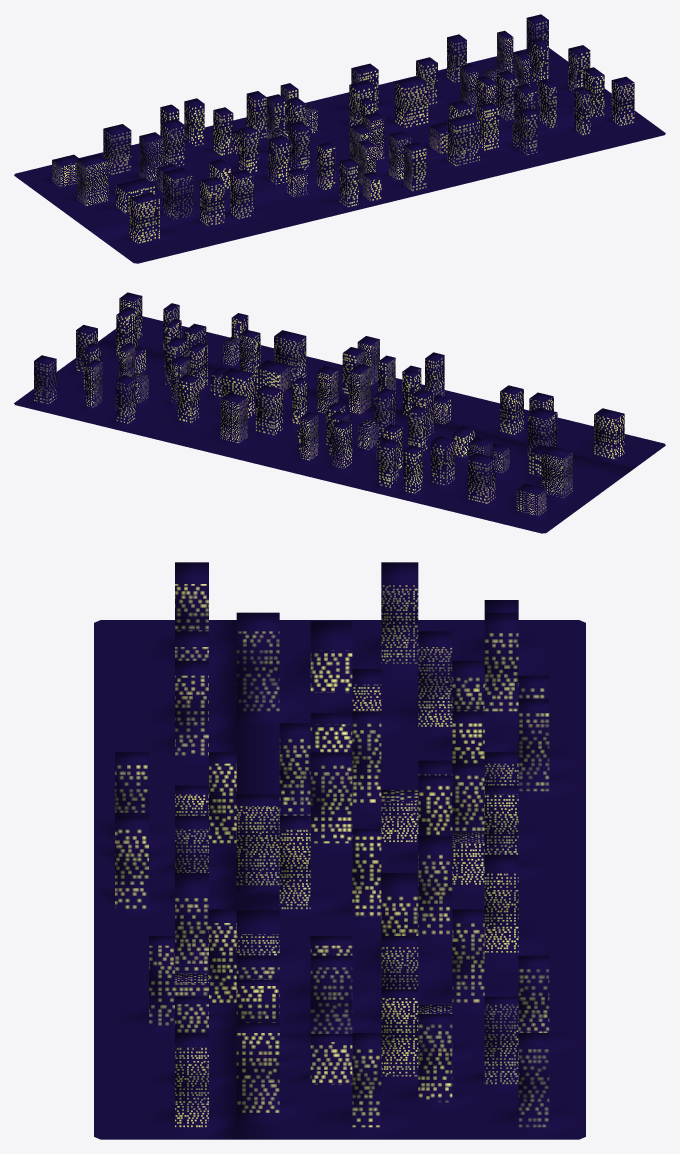
The model's file is SciFi_Base.fbx.
The picture shows the model from 3 angles, top to bottom: view 1: azimuth 30°, elevation 25°; view 2: azimuth 150°, elevation 25°; view 3: azimuth 270°, elevation 25°; orthographic projection. The views are drawn at different scales.
Visible parts, largest first — view 1: SciFi_Base; view 2: SciFi_Base; view 3: SciFi_Base.
Boxes of the visible parts, x1=… form: SciFi_Base: x1=14, y1=14, x2=665, y2=263; SciFi_Base: x1=14, y1=292, x2=665, y2=533; SciFi_Base: x1=94, y1=562, x2=585, y2=1139.
Bounding box in the file's own units: 17.57 × 1.26 × 7.03.
